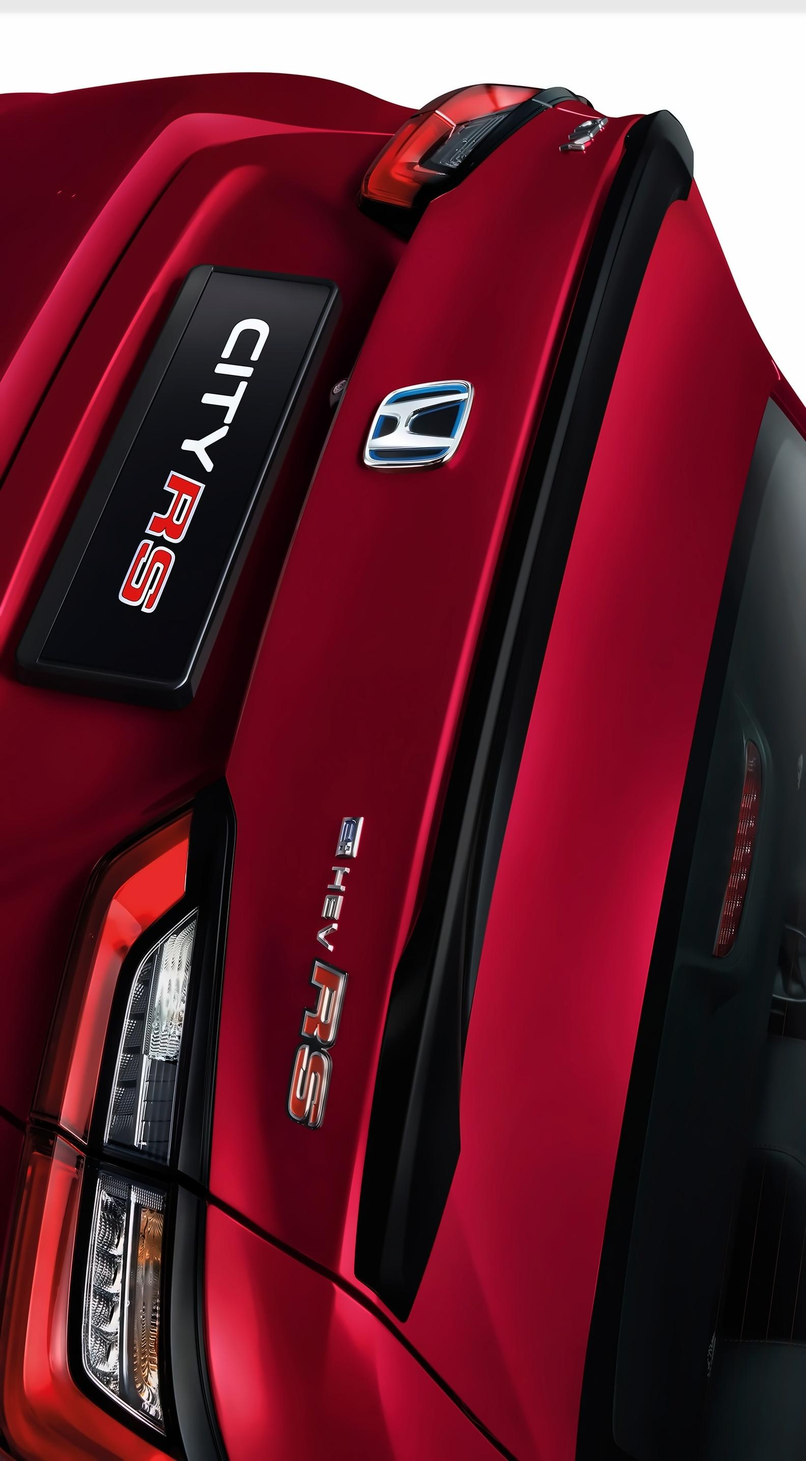Car boot: (0, 127, 768, 1461)
Rear bumper: (0, 72, 428, 481)
Rear light - -L-: (359, 79, 555, 207)
Rear light - -R-: (42, 784, 234, 1461)
